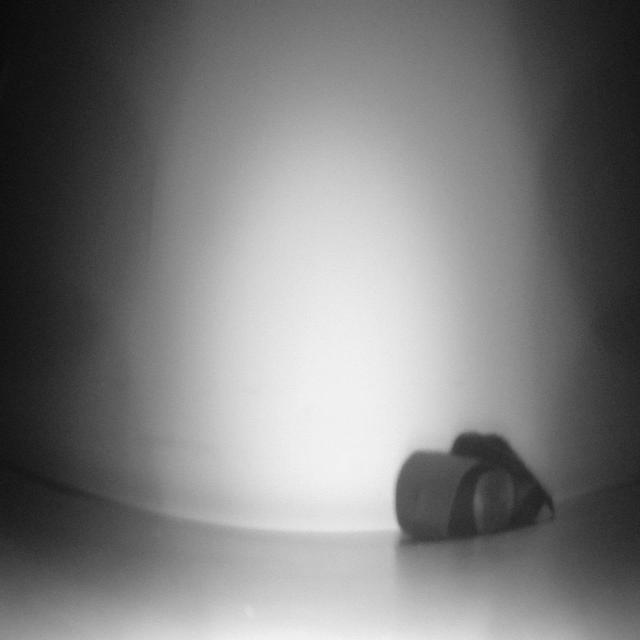targets: (398, 437, 550, 540)
